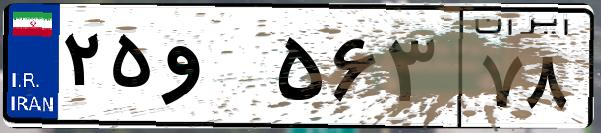2: (57, 26, 110, 100)
3: (385, 28, 445, 110)
5: (270, 28, 330, 110), (110, 28, 158, 98)
6: (330, 28, 385, 110)
7: (475, 38, 525, 113)
8: (525, 38, 570, 115)
و: (158, 20, 270, 120)
